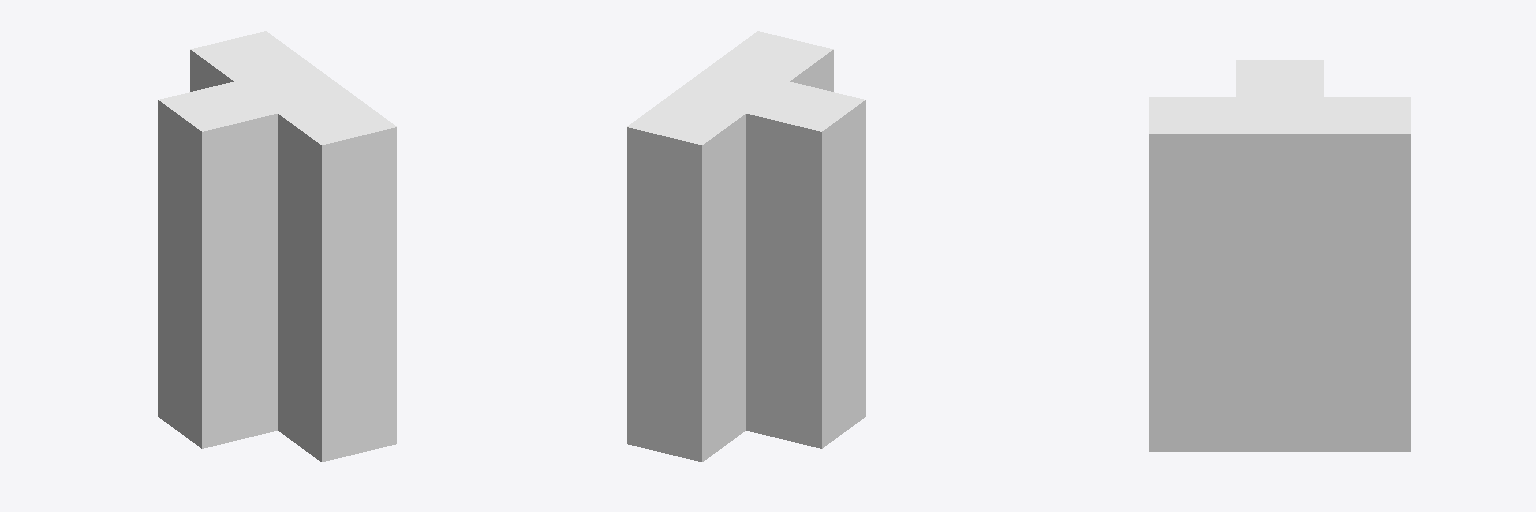
The model's file is bunker1_0.obj.
The picture shows the model from 3 angles: view 1: azimuth 30°, elevation 25°; view 2: azimuth 150°, elevation 25°; view 3: azimuth 270°, elevation 25°; orthographic projection.
Visible parts, largest first — view 1: bunker1_0; view 2: bunker1_0; view 3: bunker1_0.
Part boxes in pixels (left/top/right/bottom): bunker1_0: left=158, top=31, right=396, bottom=461; bunker1_0: left=627, top=31, right=865, bottom=461; bunker1_0: left=1149, top=60, right=1410, bottom=451.
Size of the model in its own units: 2 by 4 by 3.